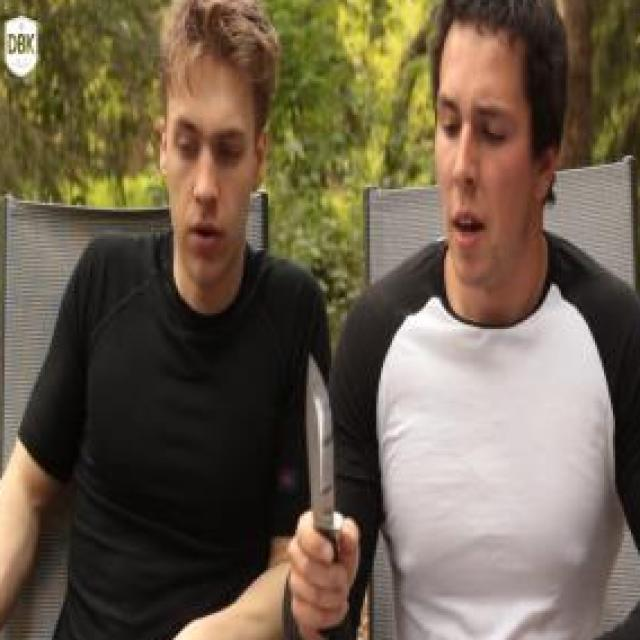knife: (282, 340, 366, 614)
